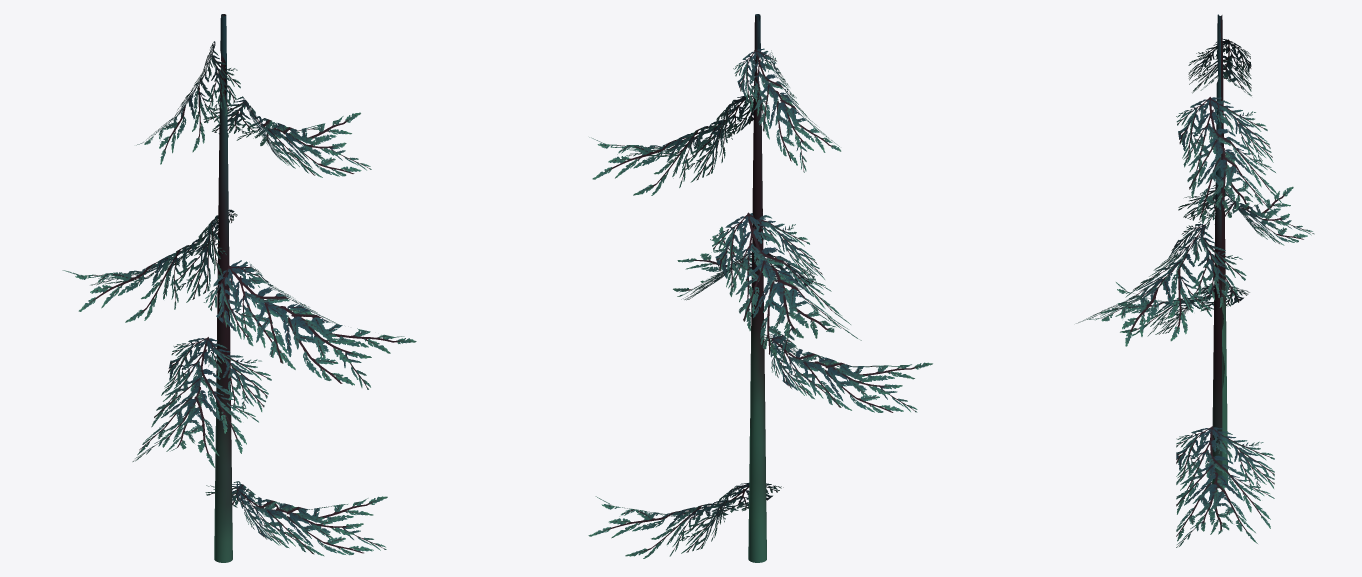
The model's file is basic tree 3.fbx.
The picture shows the model from 3 angles, left to right: view 1: azimuth 30°, elevation 25°; view 2: azimuth 150°, elevation 25°; view 3: azimuth 270°, elevation 25°; orthographic projection. The views are drawn at different scales.
Visible parts, largest first — view 1: BASE_PLANE12, BASE_PLANE8, BASE_PLANE7, pCylinder2, BASE_PLANE; view 2: BASE_PLANE12, pCylinder2, BASE_PLANE7, BASE_PLANE, BASE_PLANE8; view 3: BASE_PLANE12, BASE_PLANE, BASE_PLANE8, pCylinder2, BASE_PLANE7.
Part boxes in pixels (x1,y1,x2,y2): BASE_PLANE12: (62, 41, 371, 322); BASE_PLANE8: (203, 260, 416, 389); BASE_PLANE7: (132, 337, 271, 467); pCylinder2: (214, 14, 232, 562); BASE_PLANE: (205, 481, 387, 556); BASE_PLANE12: (589, 48, 861, 365); pCylinder2: (748, 14, 766, 562); BASE_PLANE7: (764, 332, 932, 412); BASE_PLANE: (588, 483, 783, 558); BASE_PLANE8: (673, 226, 814, 300); BASE_PLANE12: (1176, 39, 1314, 245); BASE_PLANE: (1176, 426, 1274, 547); BASE_PLANE8: (1076, 223, 1246, 346); pCylinder2: (1212, 14, 1227, 488); BASE_PLANE7: (1100, 282, 1249, 336).
Bounding box in the file's own units: 1.21 × 1.64 × 1.03.
